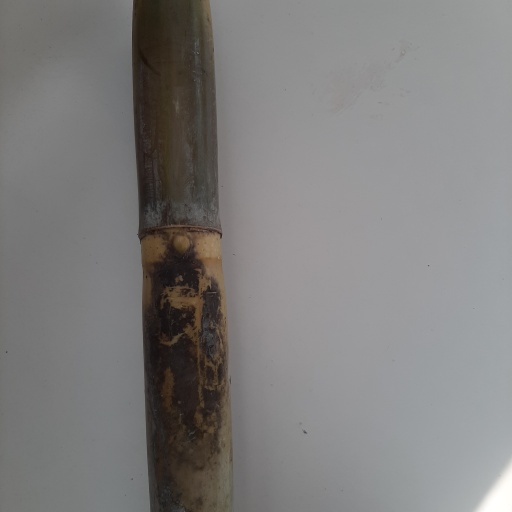Bud: (170, 232, 191, 261)
